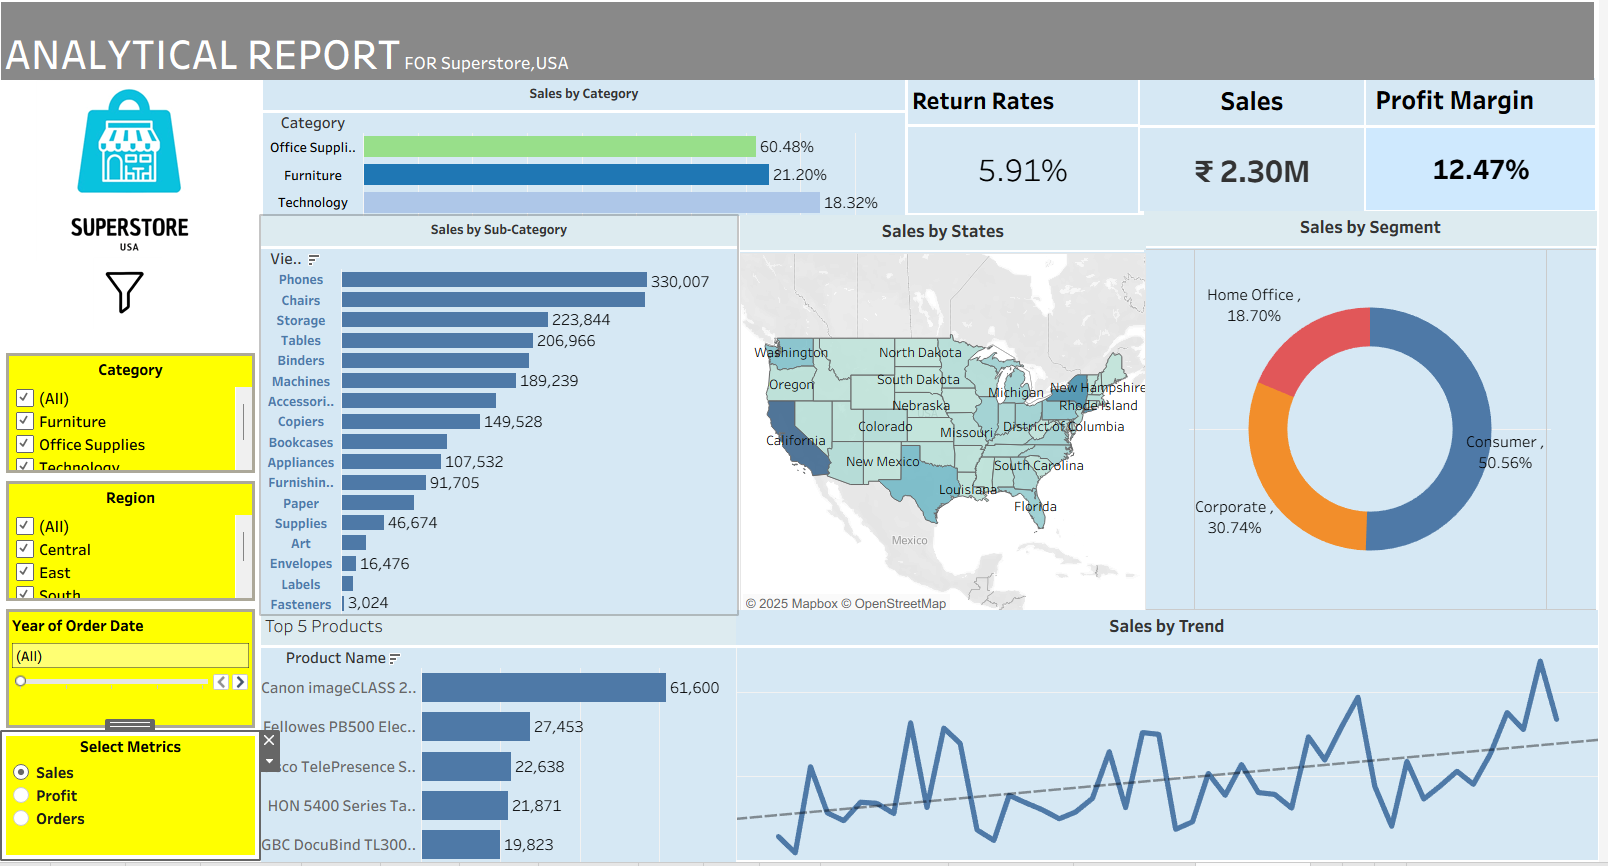

Layout of this report page (visuals, bound fields, positions):
{"tool":"tableau","page":{"name":"Dashboard ","canvas":[1600,1000],"ordinal":1},"visuals":[{"type":"text","box":[2,2,1593,78]},{"type":"worksheet","title":"pmargin kpi","mark":"Automatic","box":[1367,78,229,132]},{"type":"worksheet","title":"Sales kpi","mark":"Automatic","box":[1141,79,224,132]},{"type":"image","param":"Image/DASHBOARD.jpg","box":[28,80,201,181]},{"type":"worksheet","title":"SBCat","mark":"Automatic","rows":["Category"],"cols":["Calculation_1423418957683609600"],"box":[264,80,642,136]},{"type":"worksheet","title":"RRATE","mark":"Automatic","box":[909,80,230,133]},{"type":"worksheet","title":"Sls By Segment","mark":"Pie","rows":["Calculation_1044835178669559841","Calculation_1044835178669559841"],"box":[1145,211,453,399]},{"type":"worksheet","title":"Order By State","mark":"Multipolygon","box":[741,215,406,399]},{"type":"worksheet","title":"AS...6(1)","mark":"Automatic","rows":["Calculation_562105593061060608"],"cols":["Calculation_1423418957683609600"],"box":[262,216,476,398]},{"type":"dashboard-object","box":[3,326,237,176]},{"type":"filter","title":"SBCat","param":"[federated.10c2pzr06w0fcz171cqqb0eazgd8].[none:Category:nk]","box":[3,349,257,128]},{"type":"filter","title":"Sales kpi","param":"[federated.10c2pzr06w0fcz171cqqb0eazgd8].[none:Region:nk]","box":[3,477,257,128]},{"type":"filter","title":"SBCat","param":"[federated.10c2pzr06w0fcz171cqqb0eazgd8].[yr:Order Date:ok]","box":[3,605,257,127]},{"type":"worksheet","title":"TOP5","mark":"Automatic","rows":["Product Name"],"cols":["Calculation_1423418957683609600"],"box":[262,609,475,255]},{"type":"worksheet","title":"Order By Trend","mark":"Line","rows":["Calculation_1423418957683609600"],"cols":["Order Date"],"box":[737,610,862,250]},{"type":"parameter","param":"[Parameters].[total previous year profit Parameter]","box":[3,732,257,127]}]}

Visuals, with their boxes on the page's 1600x1000 design canvas (x1, y1, x2, y2). These are canvas units, not pixel positions in the 1608x866 screenshot, which may show the page scaled, cropped or inside an application window:
text: BBox(2, 2, 1595, 80)
"pmargin kpi" worksheet: BBox(1367, 78, 1596, 210)
"Sales kpi" worksheet: BBox(1141, 79, 1365, 211)
image: BBox(28, 80, 229, 261)
"SBCat" worksheet: BBox(264, 80, 906, 216)
"RRATE" worksheet: BBox(909, 80, 1139, 213)
"Sls By Segment" worksheet (Pie marks): BBox(1145, 211, 1598, 610)
"Order By State" worksheet (Multipolygon marks): BBox(741, 215, 1147, 614)
"AS...6(1)" worksheet: BBox(262, 216, 738, 614)
dashboard-object: BBox(3, 326, 240, 502)
"SBCat" filter: BBox(3, 349, 260, 477)
"Sales kpi" filter: BBox(3, 477, 260, 605)
"SBCat" filter: BBox(3, 605, 260, 732)
"TOP5" worksheet: BBox(262, 609, 737, 864)
"Order By Trend" worksheet (Line marks): BBox(737, 610, 1599, 860)
parameter: BBox(3, 732, 260, 859)
